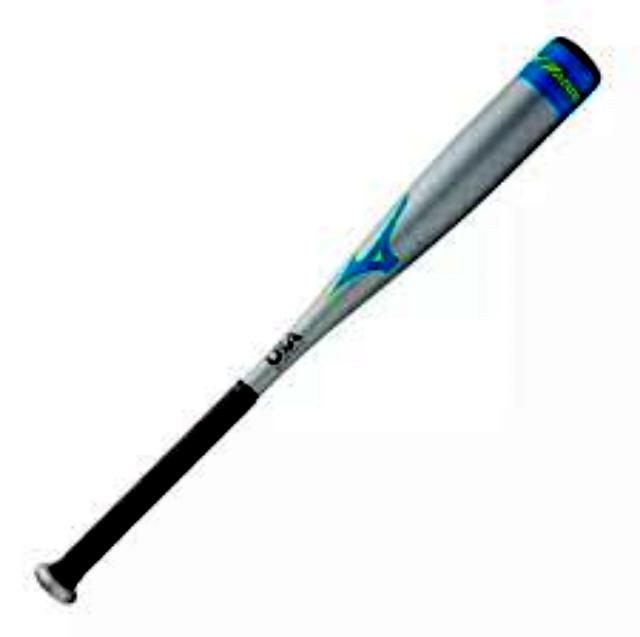baseball bat: (32, 32, 601, 607)
